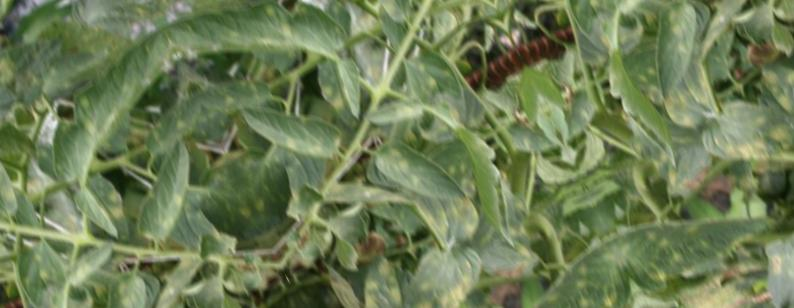Tomato mold leaf: (156, 0, 347, 111), (368, 118, 500, 275), (461, 227, 640, 308), (233, 70, 351, 189), (384, 229, 499, 308), (192, 57, 280, 137), (396, 40, 471, 122), (315, 46, 381, 127), (363, 90, 428, 140), (360, 0, 420, 33), (202, 0, 367, 4)
